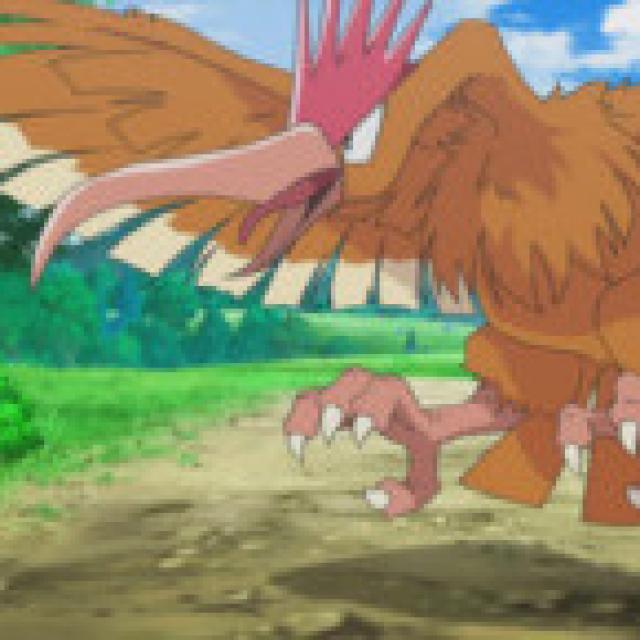Fearow: (204, 16, 640, 521)
